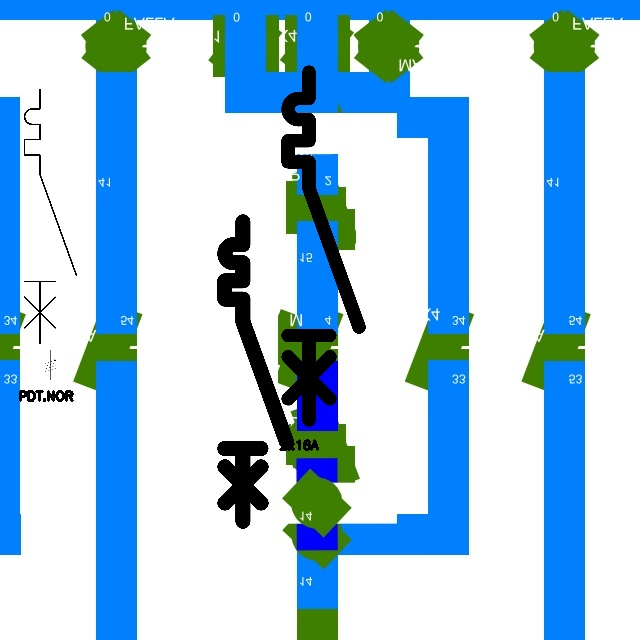interruptor_termomagnetico: (279, 63, 368, 429), (217, 214, 294, 529), (18, 83, 83, 350)
